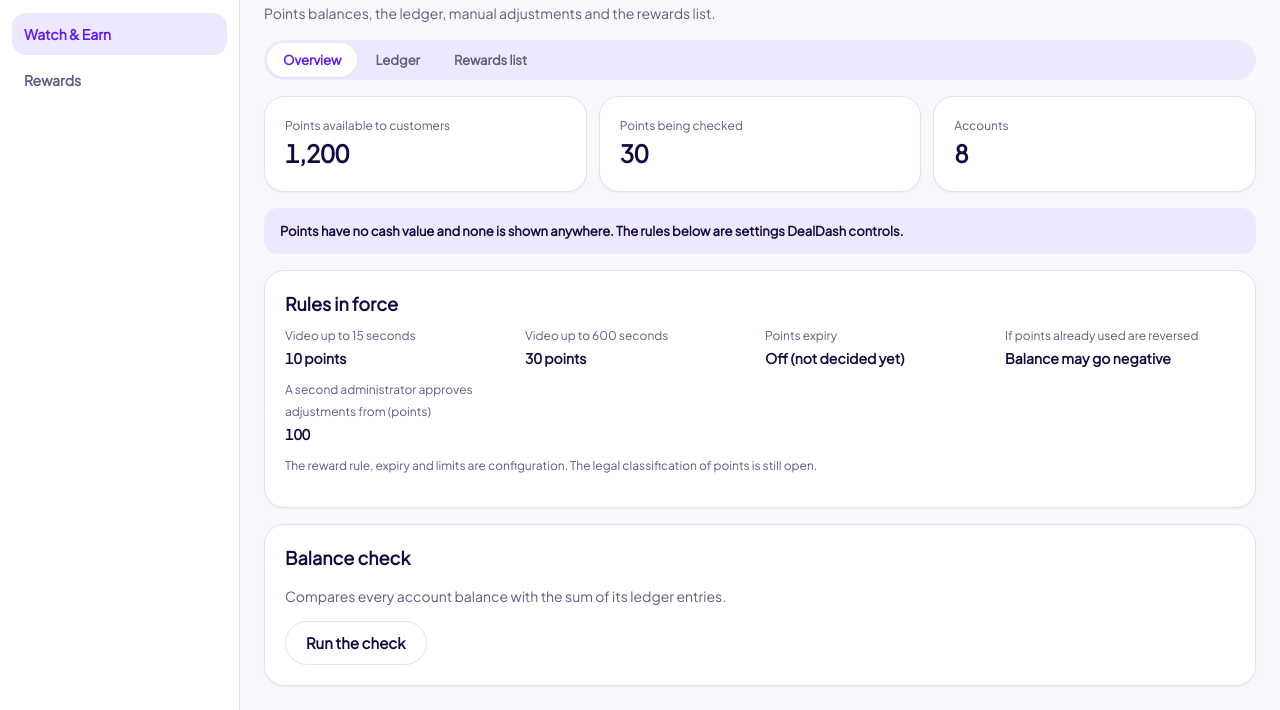
Test: admin rewards › overview: liability, the rules in force (no point value shown), expiry off, and a balance check
(page scrolled)
Expected: the text with test id "liab-available" reads "1,200", [285,138,349,168]
Expected: the text with test id "rule-expiry" reads "Off (not decided yet)", [765,349,904,367]
What coordinates should you click on to do the following:
click the button with test id "reconcile-run"
I would click on:
 (356, 643)
Its box is [285,621,427,665].
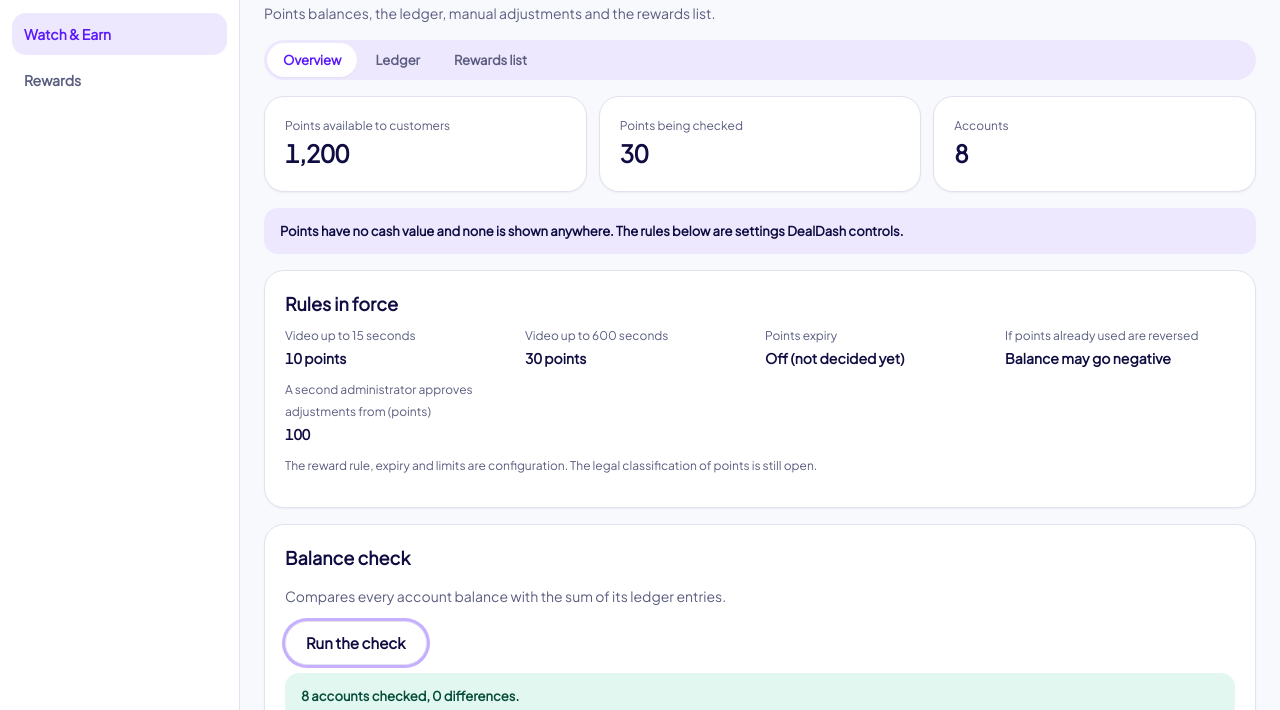
Expected: the text with test id "reconcile-result" shows "8 accounts checked, 0 differences", [301,688,519,704]
